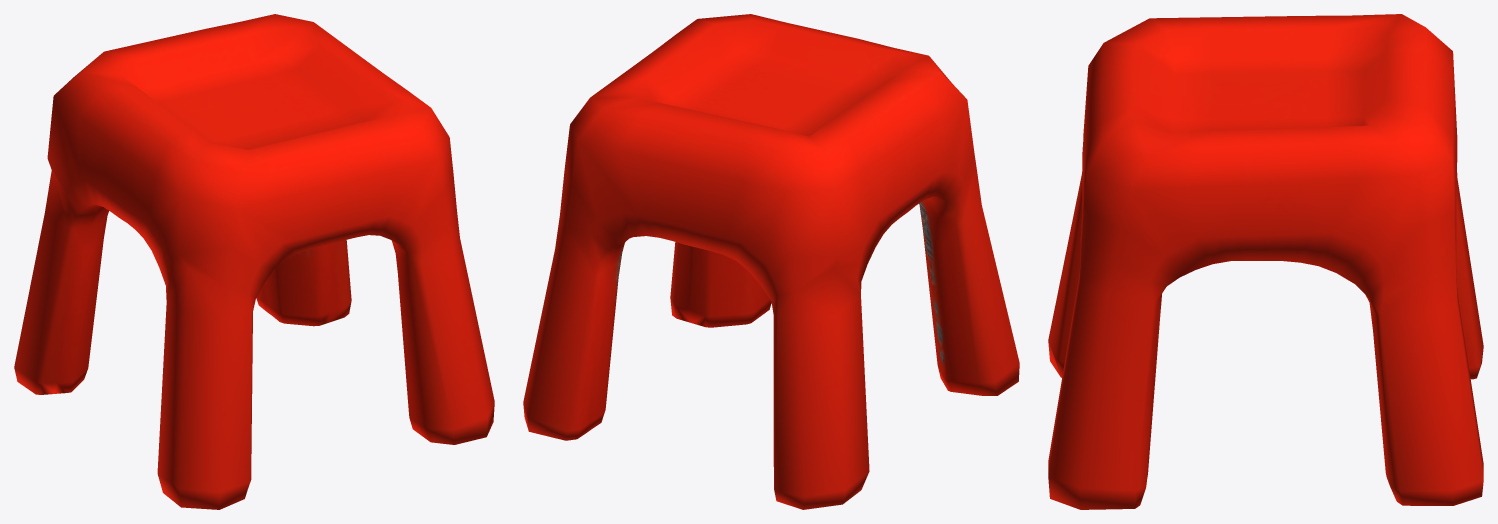
Rendered from PROP_SHOP_STOOL_A01.glb.
3 views of the same model, side by side, from view 1: azimuth 30°, elevation 25°; view 2: azimuth 150°, elevation 25°; view 3: azimuth 270°, elevation 25° (orthographic). The views are drawn at different scales.
Parts seen in each view (by area): view 1: tripo_node_8f47c64f-049c-4d62-9f59-250bbf0a7604; view 2: tripo_node_8f47c64f-049c-4d62-9f59-250bbf0a7604; view 3: tripo_node_8f47c64f-049c-4d62-9f59-250bbf0a7604.
Part boxes in pixels (x1,y1,x2,y2): tripo_node_8f47c64f-049c-4d62-9f59-250bbf0a7604: (14,14,494,509); tripo_node_8f47c64f-049c-4d62-9f59-250bbf0a7604: (523,14,1019,509); tripo_node_8f47c64f-049c-4d62-9f59-250bbf0a7604: (1048,14,1483,509).
Bounding box in the file's own units: 0.9395 × 0.9199 × 0.998.
Materials: 1 (1 with a texture image).
